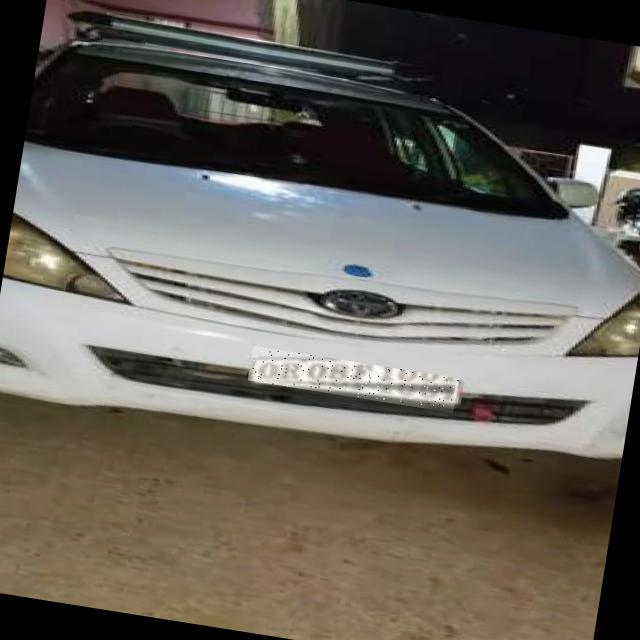Plate: (249, 347, 460, 414)
